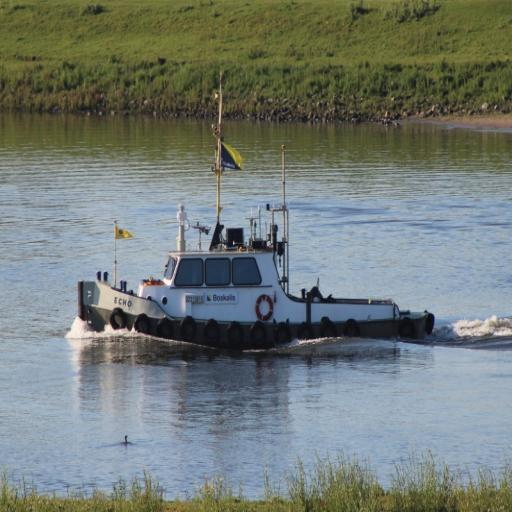tugboat: (76, 135, 439, 361)
